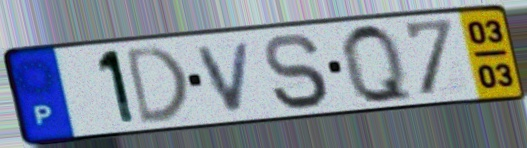1: (91, 46, 139, 129)
7: (403, 16, 459, 101)
D: (122, 42, 192, 128)
Q: (338, 20, 419, 107)
S: (260, 30, 333, 111)
V: (193, 38, 256, 115)
